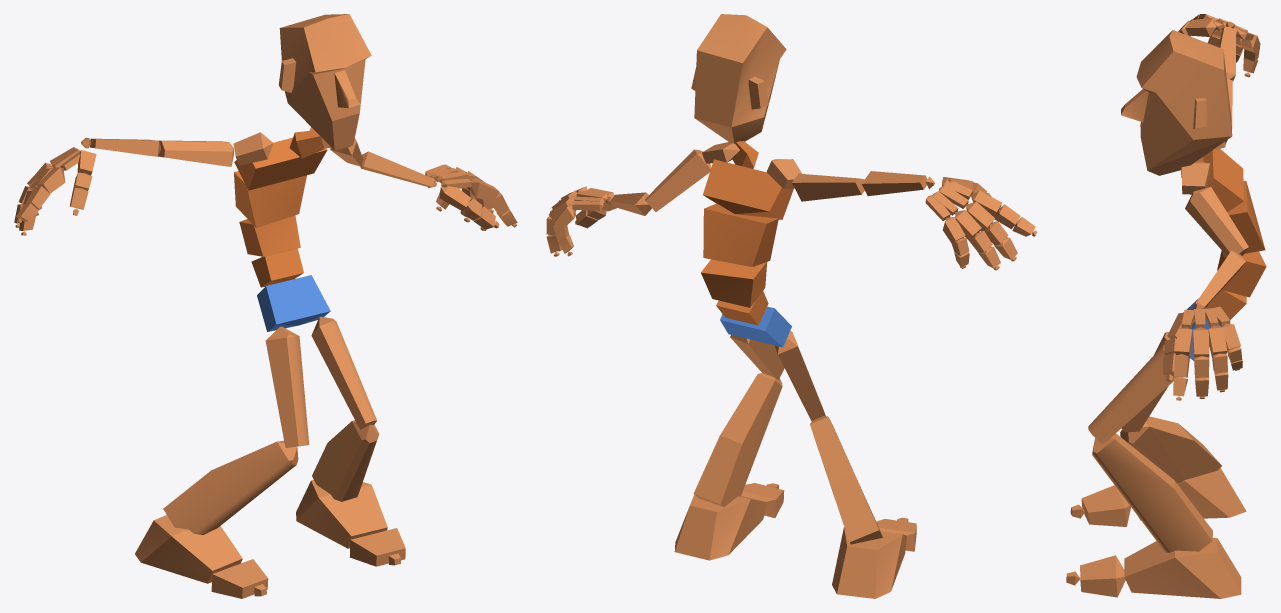
File: personaje320.obj
3 renders of one model, left to right at view 1: azimuth 30°, elevation 25°; view 2: azimuth 150°, elevation 25°; view 3: azimuth 270°, elevation 25°, orthographic. The views are drawn at different scales.
Parts seen in each view (by area): view 1: BOPED_Head, BOPED_R_leg, BOPED_R_foot, BOPED_R_foot01, BOPED_R_legup, BOPED_L_leg, BOPED_L_legup, Bone01, Bone04, Bone05, Bone03, BOPED_R_arm_upper (+7 smaller); view 2: BOPED_Head, BOPED_L_leg, BOPED_R_foot01, BOPED_R_foot, Bone04, BOPED_R_leg, Bone05, Bone03, BOPED_L_arm_upper, BOPED_R_legup, Bone01, BOPED_R_arm_upper (+7 smaller); view 3: BOPED_Head, BOPED_L_leg, BOPED_R_foot01, BOPED_R_leg, BOPED_L_legup, BOPED_L_arm_upper, BOPED_R_foot, Bone05, BOPED_R_foot_toe01, BOPED_R_foot_toe04, Bone04, Bone03 (+13 smaller).
Part boxes in pixels (x1,y1,x2,y2): BOPED_Head: (278, 14, 371, 151); BOPED_R_leg: (163, 440, 298, 534); BOPED_R_foot: (135, 515, 242, 583); BOPED_R_foot01: (296, 479, 387, 548); BOPED_R_legup: (265, 326, 309, 447); BOPED_L_leg: (312, 420, 379, 501); BOPED_L_legup: (311, 316, 376, 429); Bone01: (257, 275, 330, 331); Bone04: (234, 171, 306, 227); Bone05: (234, 137, 327, 190); Bone03: (239, 215, 300, 256); BOPED_R_arm_upper: (158, 140, 233, 166); BOPED_Head: (691, 14, 786, 143); BOPED_L_leg: (693, 373, 782, 506); BOPED_R_foot01: (674, 494, 766, 560); BOPED_R_foot: (832, 527, 906, 598); Bone04: (703, 204, 778, 266); BOPED_R_leg: (810, 416, 882, 544); Bone05: (703, 159, 793, 219); Bone03: (701, 259, 767, 307); BOPED_L_arm_upper: (645, 149, 711, 211); BOPED_R_legup: (775, 331, 825, 421); Bone01: (720, 306, 791, 347); BOPED_R_arm_upper: (792, 173, 864, 201); BOPED_Head: (1121, 30, 1232, 175); BOPED_L_leg: (1092, 433, 1212, 552); BOPED_R_foot01: (1124, 537, 1241, 598); BOPED_R_leg: (1120, 416, 1221, 483); BOPED_L_legup: (1088, 345, 1177, 443); BOPED_L_arm_upper: (1185, 187, 1248, 256); BOPED_R_foot: (1138, 468, 1246, 520); Bone05: (1203, 149, 1244, 212); BOPED_R_foot_toe01: (1081, 485, 1130, 526); BOPED_R_foot_toe04: (1080, 555, 1125, 597); Bone04: (1222, 180, 1265, 257); Bone03: (1217, 250, 1266, 297).
Size of the model in its own units: 167 by 168 by 56.5.
